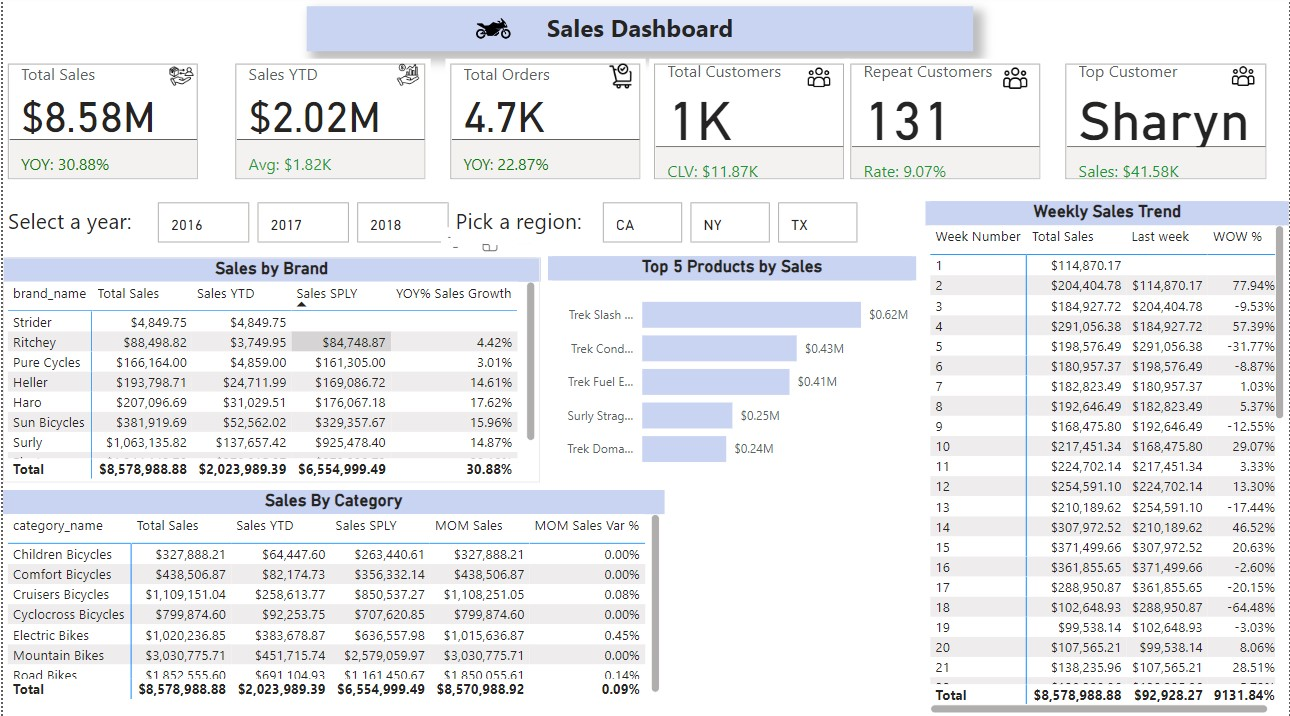

The page's visual inventory and layout, read from the dashboard file:
{"tool":"powerbi","page":{"name":"Dashboard","canvas":[1280,720],"ordinal":2},"visuals":[{"type":"textbox","box":[302.7,11.2,663.3,44.9],"z":0},{"type":"cardVisual","fields":{"Data":["Dax.Total Sales"]},"box":[0,63.4,199,125.6],"z":1000},{"type":"cardVisual","fields":{"Data":["Dax.Total Customer"]},"box":[643.6,63.4,199,125],"z":2000},{"type":"cardVisual","fields":{"Data":["Dax.Sales YTD"]},"box":[226.4,63.4,199,125.6],"z":3000},{"type":"cardVisual","fields":{"Data":["Dax.Total Orders"]},"box":[440.4,63.4,199,125.6],"z":4000},{"type":"advancedSlicerVisual","fields":{"Values":["Date Dim.Year"]},"box":[149.2,201.8,300.2,50],"z":5000},{"type":"textbox","box":[0,205.3,149.2,42.3],"z":6000},{"type":"pivotTable","title":"Sales By Category","fields":{"Values":["Dax.Total Sales","Dax.Sales YTD","Dax.Sales SPLY","Dax.Previous Month Sales","Dax.MOM Sales Var %"],"Rows":["Category.category_name"]},"box":[0,492.2,658.5,213],"z":7000},{"type":"pivotTable","title":"Sales by Brand","fields":{"Values":["Dax.Total Sales","Dax.Sales YTD","Dax.Sales SPLY","Dax.% YOY Growth"],"Rows":["Brand.brand_name"]},"box":[0,260.7,535,224.7],"z":8000},{"type":"pivotTable","title":"Weekly Sales Trend","fields":{"Rows":["Date Dim.Week Number"],"Values":["Dax.Total Sales","Dax.Last week","Dax.WOW %"]},"box":[918,205.3,362,515],"z":9000},{"type":"advancedSlicerVisual","fields":{"Values":["Customers dim.state"]},"box":[591.7,201.8,263.1,50],"z":10000},{"type":"textbox","box":[445.9,205.3,145.8,42.3],"z":11000},{"type":"clusteredBarChart","title":"Top 5 Products by Sales","fields":{"Category":["Product dim.product_name"],"Y":["Dax.Total Sales"]},"box":[542.5,260.5,366.6,224.3],"z":12000},{"type":"image","box":[149.3,63.4,57.2,34.8],"z":13000},{"type":"image","box":[380.7,63.4,44.8,32.3],"z":14000},{"type":"image","box":[590.9,63.4,47.3,34.8],"z":15000},{"type":"image","box":[782.5,65.9,59.7,32.3],"z":16000},{"type":"cardVisual","fields":{"Data":["Customers dim.first_name"]},"box":[1052.4,63.4,210.2,125.6],"z":17000},{"type":"image","box":[1205.4,64.7,57.2,32.3],"z":18000},{"type":"image","box":[440.8,11.2,95.7,44],"z":19000},{"type":"cardVisual","fields":{"Data":["Dax.Repeat Customers"]},"box":[838.4,63.4,199,125.6],"z":20000},{"type":"image","box":[977.8,65.9,59.7,33.6],"z":21000}]}

Visuals, with their boxes in screenshot pixels (x1, y1, x2, y2), scaled from the page's 1280x720 canvas onto the 1290x716 screenshot:
textbox: pyautogui.locateOnScreen(305, 11, 974, 56)
cardVisual - Dax.Total Sales: pyautogui.locateOnScreen(0, 63, 201, 188)
cardVisual - Dax.Total Customer: pyautogui.locateOnScreen(649, 63, 849, 187)
cardVisual - Dax.Sales YTD: pyautogui.locateOnScreen(228, 63, 429, 188)
cardVisual - Dax.Total Orders: pyautogui.locateOnScreen(444, 63, 644, 188)
advancedSlicerVisual - Date Dim.Year: pyautogui.locateOnScreen(150, 201, 453, 250)
textbox: pyautogui.locateOnScreen(0, 204, 150, 246)
"Sales By Category" pivotTable: pyautogui.locateOnScreen(0, 489, 664, 701)
"Sales by Brand" pivotTable: pyautogui.locateOnScreen(0, 259, 539, 483)
"Weekly Sales Trend" pivotTable: pyautogui.locateOnScreen(925, 204, 1289, 715)
advancedSlicerVisual - Customers dim.state: pyautogui.locateOnScreen(596, 201, 861, 250)
textbox: pyautogui.locateOnScreen(449, 204, 596, 246)
"Top 5 Products by Sales" clusteredBarChart: pyautogui.locateOnScreen(547, 259, 916, 482)
image: pyautogui.locateOnScreen(150, 63, 208, 98)
image: pyautogui.locateOnScreen(384, 63, 429, 95)
image: pyautogui.locateOnScreen(596, 63, 643, 98)
image: pyautogui.locateOnScreen(789, 66, 849, 98)
cardVisual - Customers dim.first_name: pyautogui.locateOnScreen(1061, 63, 1272, 188)
image: pyautogui.locateOnScreen(1215, 64, 1272, 96)
image: pyautogui.locateOnScreen(444, 11, 541, 55)
cardVisual - Dax.Repeat Customers: pyautogui.locateOnScreen(845, 63, 1046, 188)
image: pyautogui.locateOnScreen(985, 66, 1046, 99)
